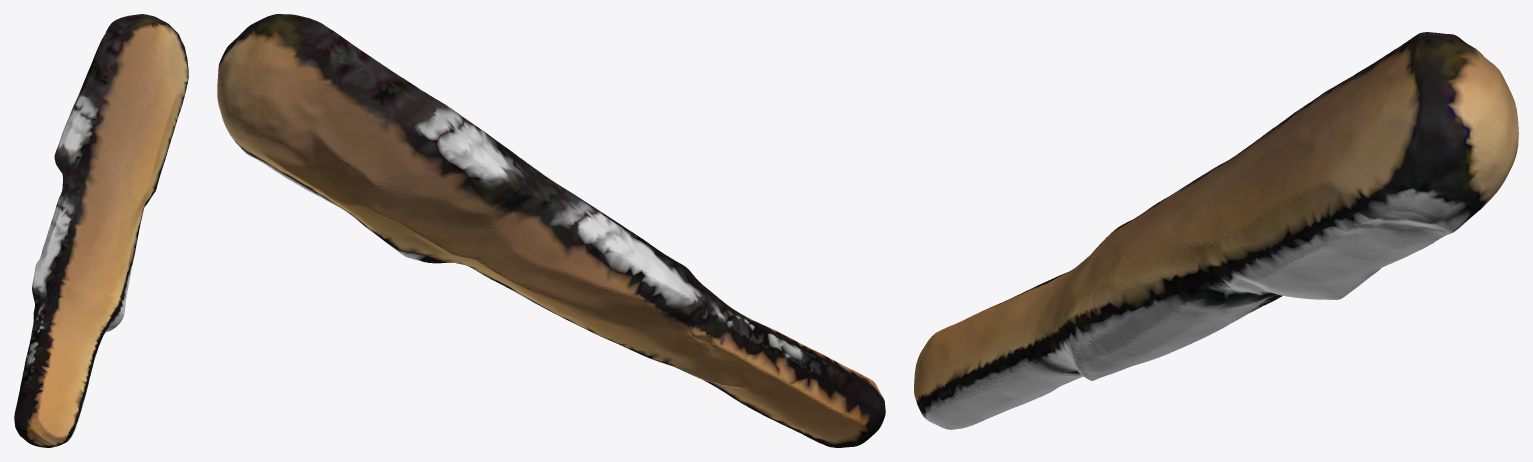
File: big_club.glb
The picture shows the model from 3 angles, left to right: view 1: azimuth 30°, elevation 25°; view 2: azimuth 150°, elevation 25°; view 3: azimuth 270°, elevation 25°; orthographic projection. The views are drawn at different scales.
Visible parts, largest first — view 1: geometry_0; view 2: geometry_0; view 3: geometry_0.
Part boxes in pixels (x1,y1,x2,y2): geometry_0: (14,14,188,447); geometry_0: (217,14,885,447); geometry_0: (914,32,1518,429).
Bounding box in the file's own units: 0.875 × 0.8672 × 0.8153.
